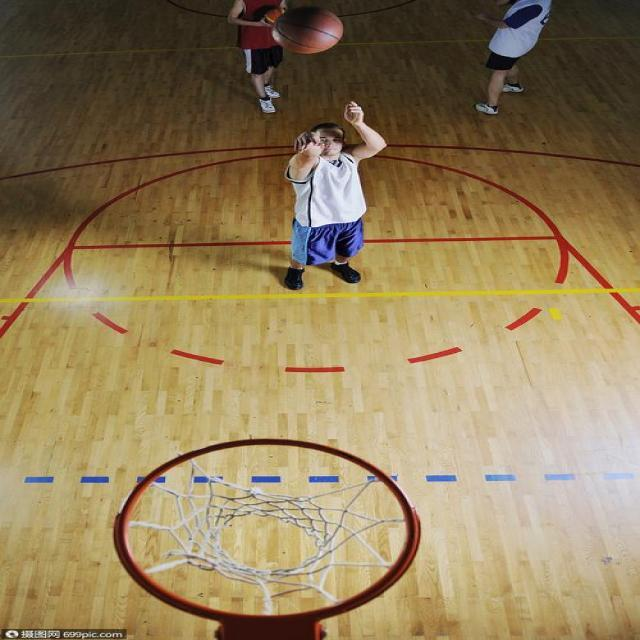rim: (268, 4, 350, 56)
